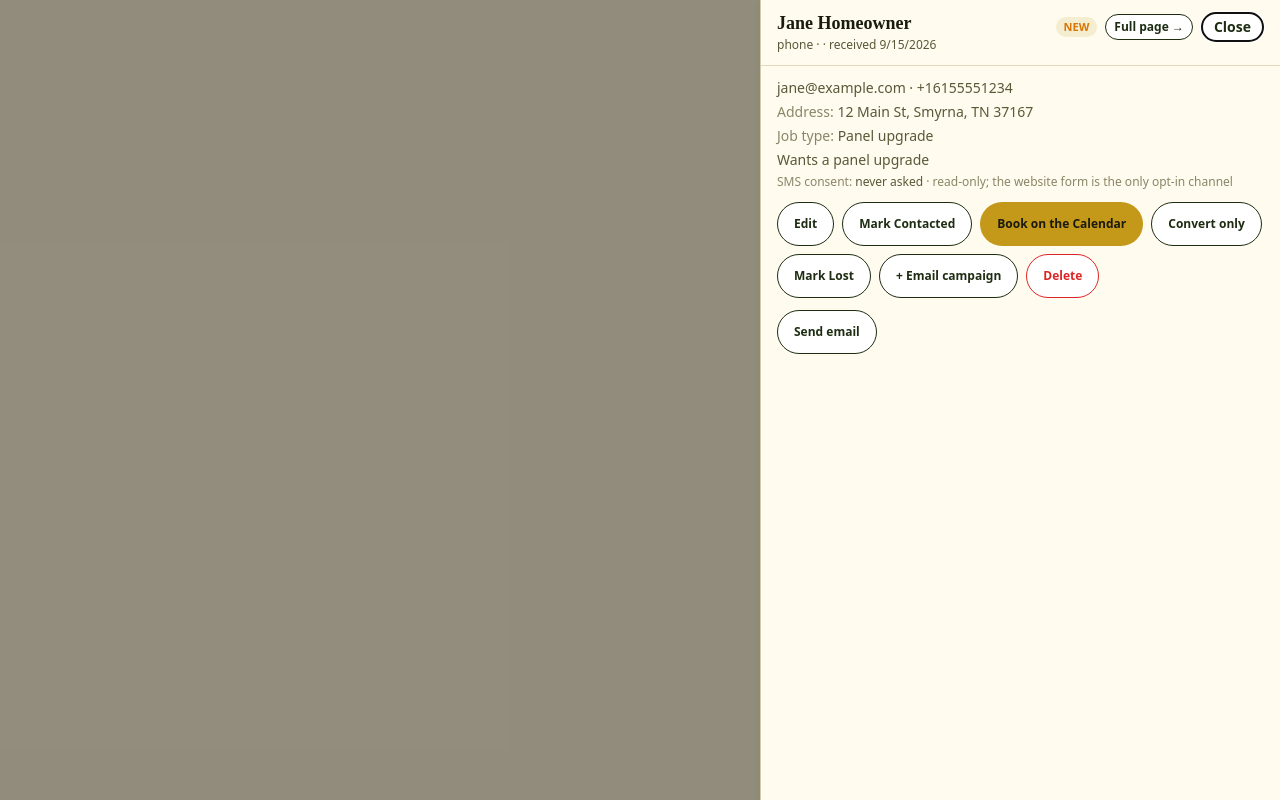
Scenario: LeadDrawer › sends a free-form follow-up email and shows the unsubscribed notice when the address is suppressed
The image size is (1280, 800).
Click the button "Send email" at (827,332), box [777, 310, 877, 354]
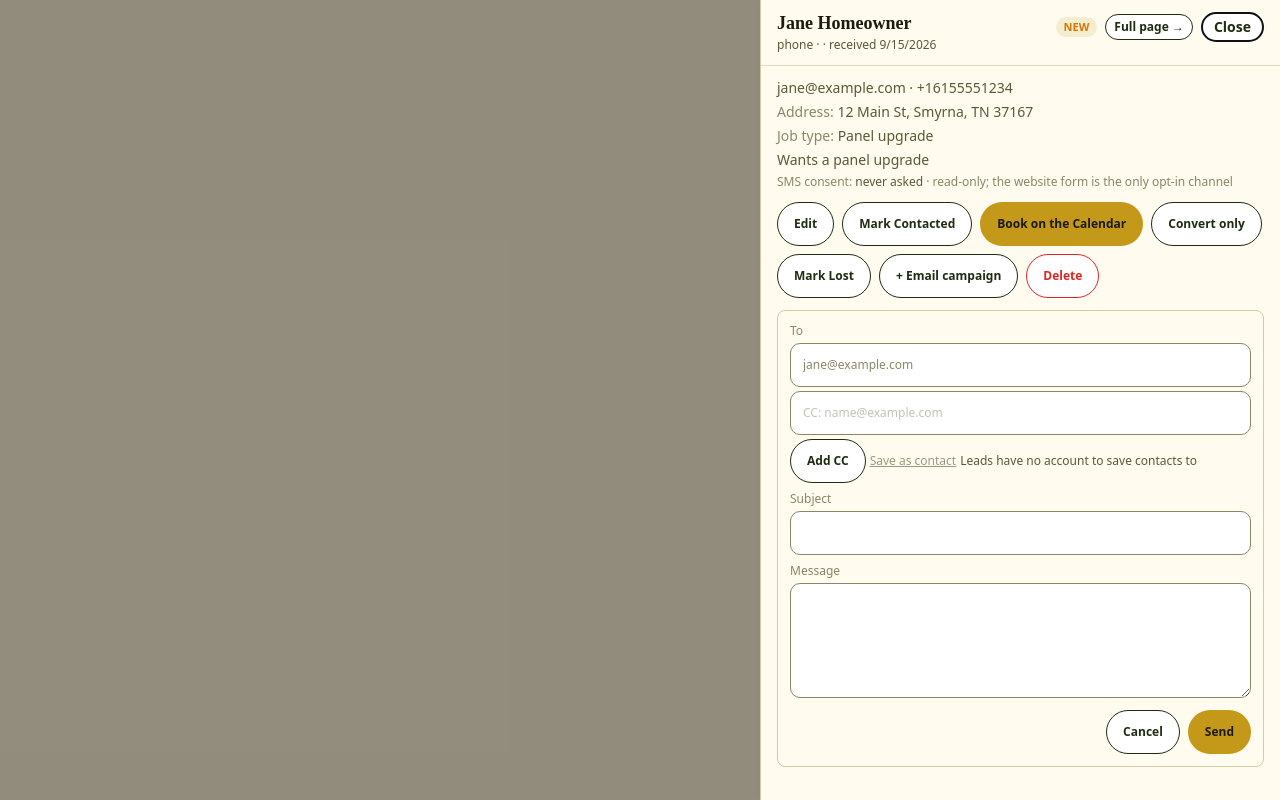
Type "Checking in" into the field labelled "Subject" at (1020,532), box [790, 510, 1251, 554]
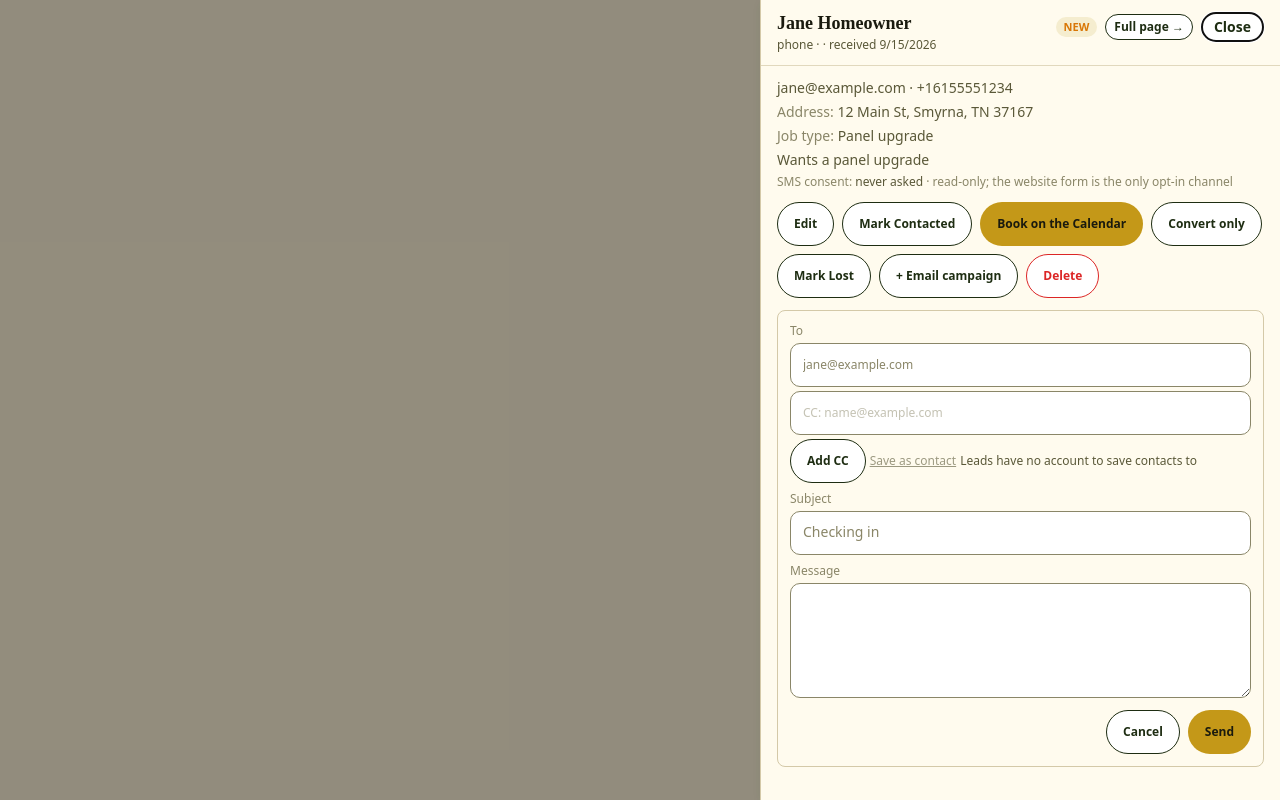
Type "Just following up on your quote." into the text box labelled "Message" at (1020,640), box [790, 582, 1251, 698]
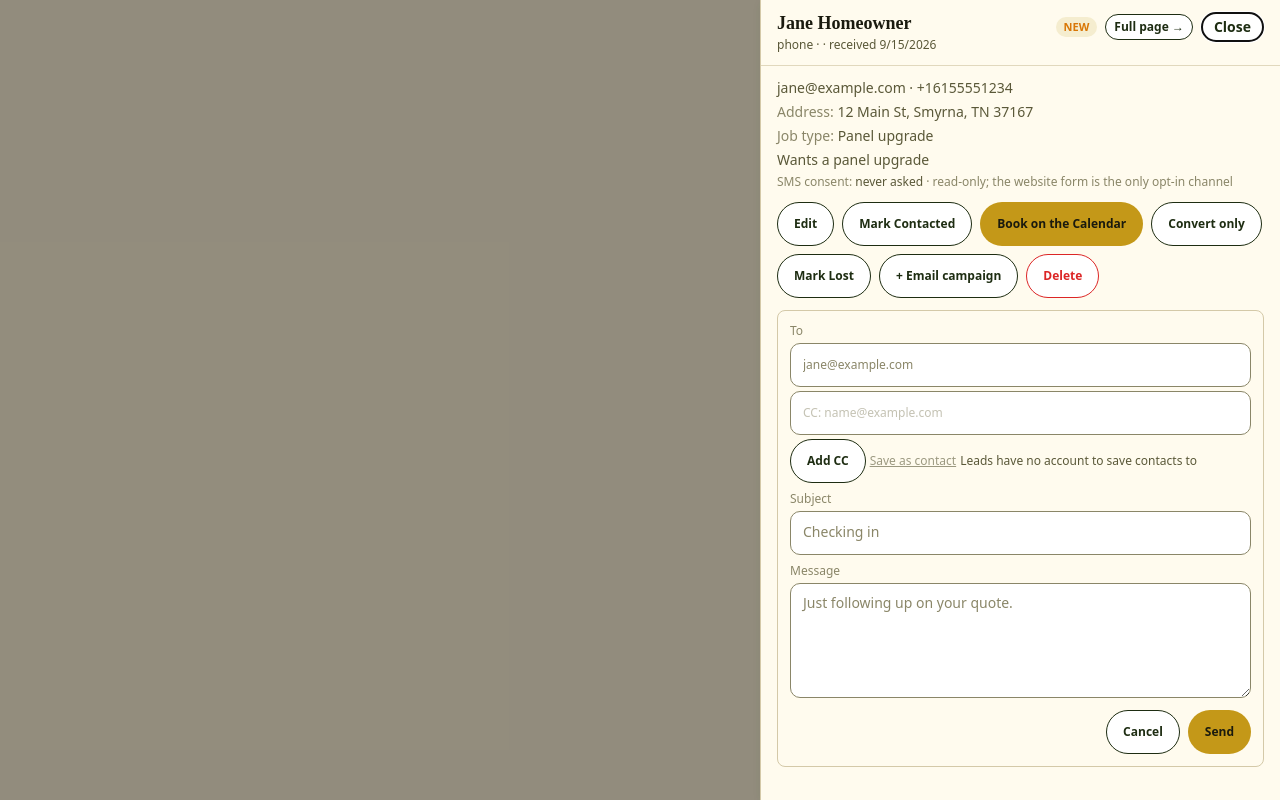
Click the button "Send" at (1219,732), box [1188, 710, 1251, 754]
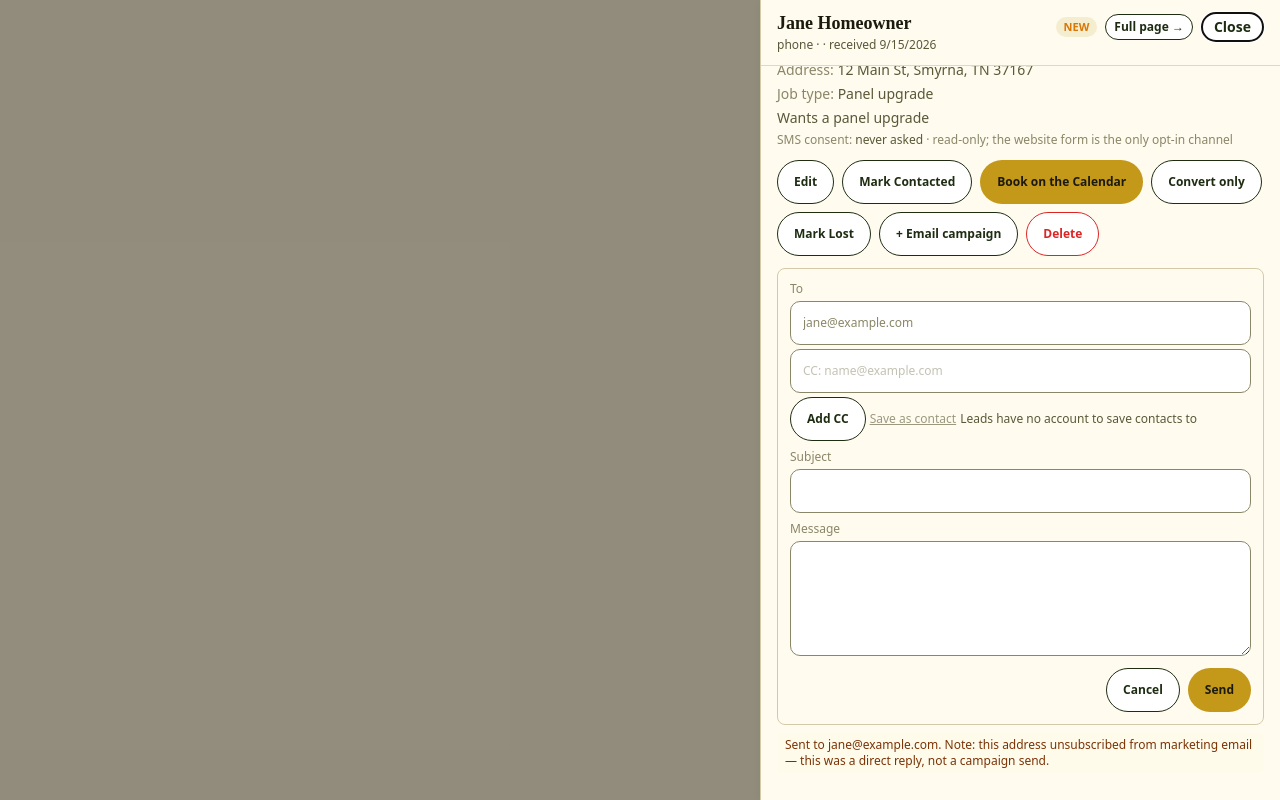
Result: the text "unsubscribed from marketing" is shown at [785, 736, 1252, 769]
